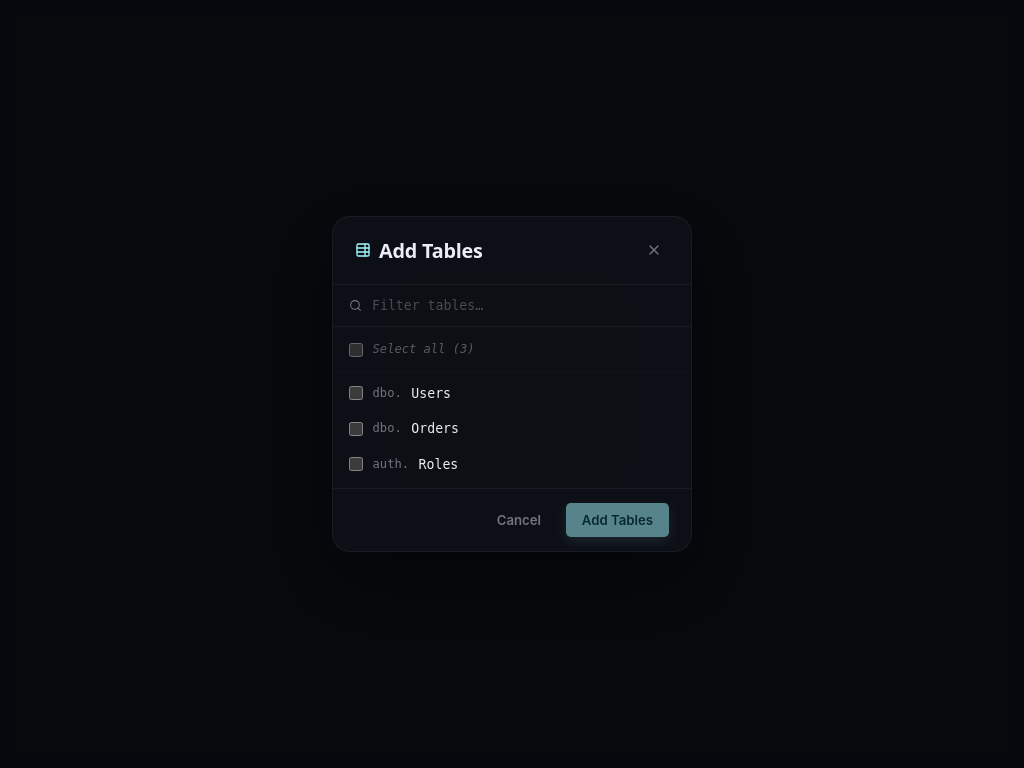
Test: AddTablesDialog › enables the Add button when a table is selected and shows count in label
Click the checkbox named "dbo.Users" at (356, 394), box [349,386,363,400]
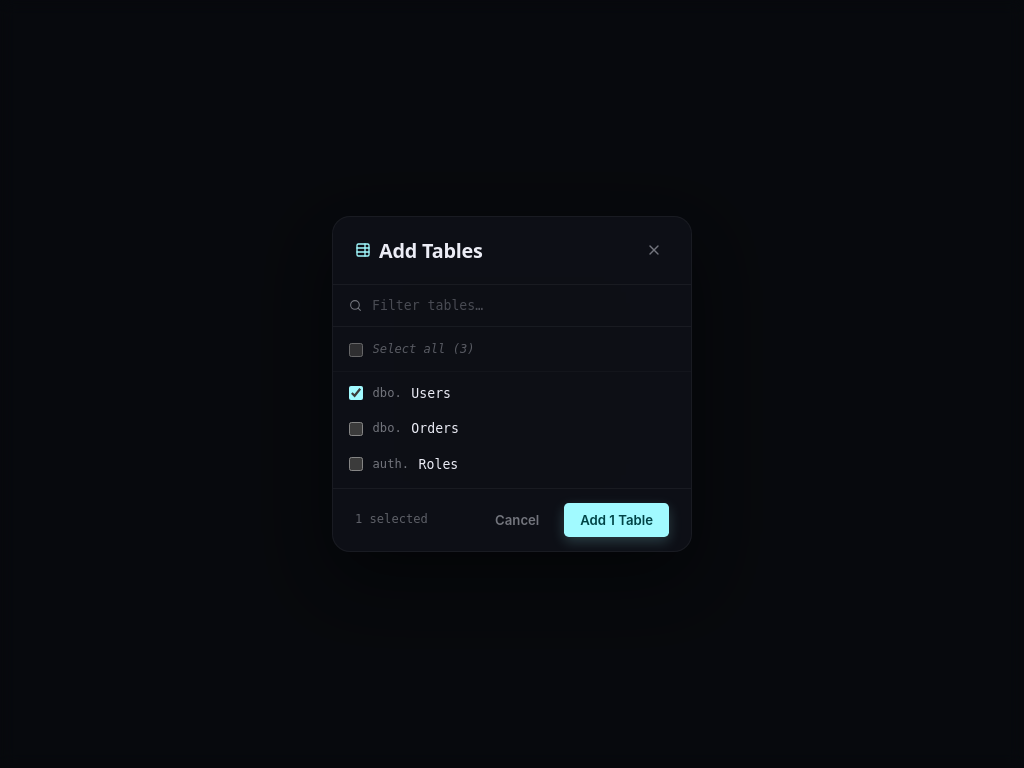
Now the button "Add 1 Table" is enabled, box [564,503,669,537]
